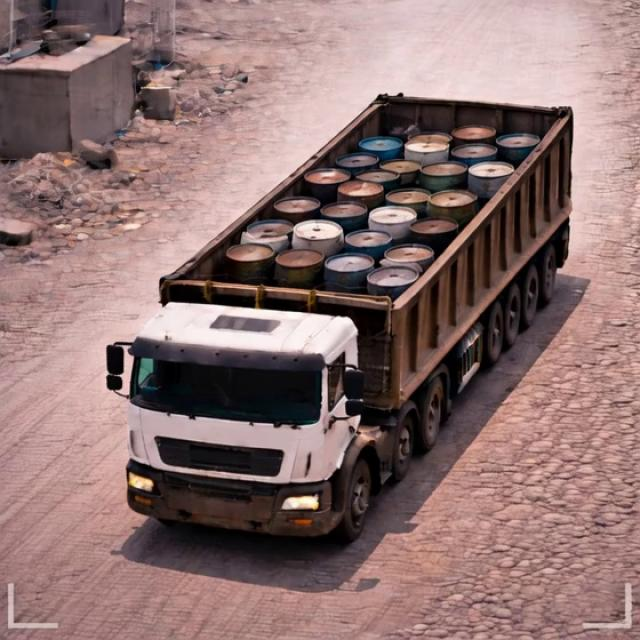trailer: (159, 100, 584, 295)
truck: (100, 84, 596, 532)
